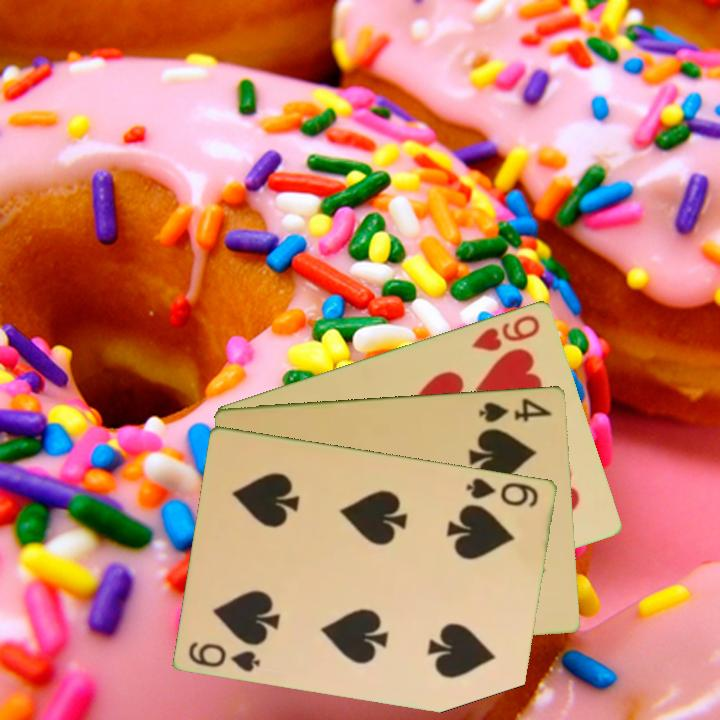4s: (476, 393, 555, 425)
6s: (463, 474, 542, 510), (185, 638, 264, 674)
9h: (468, 310, 544, 354)
